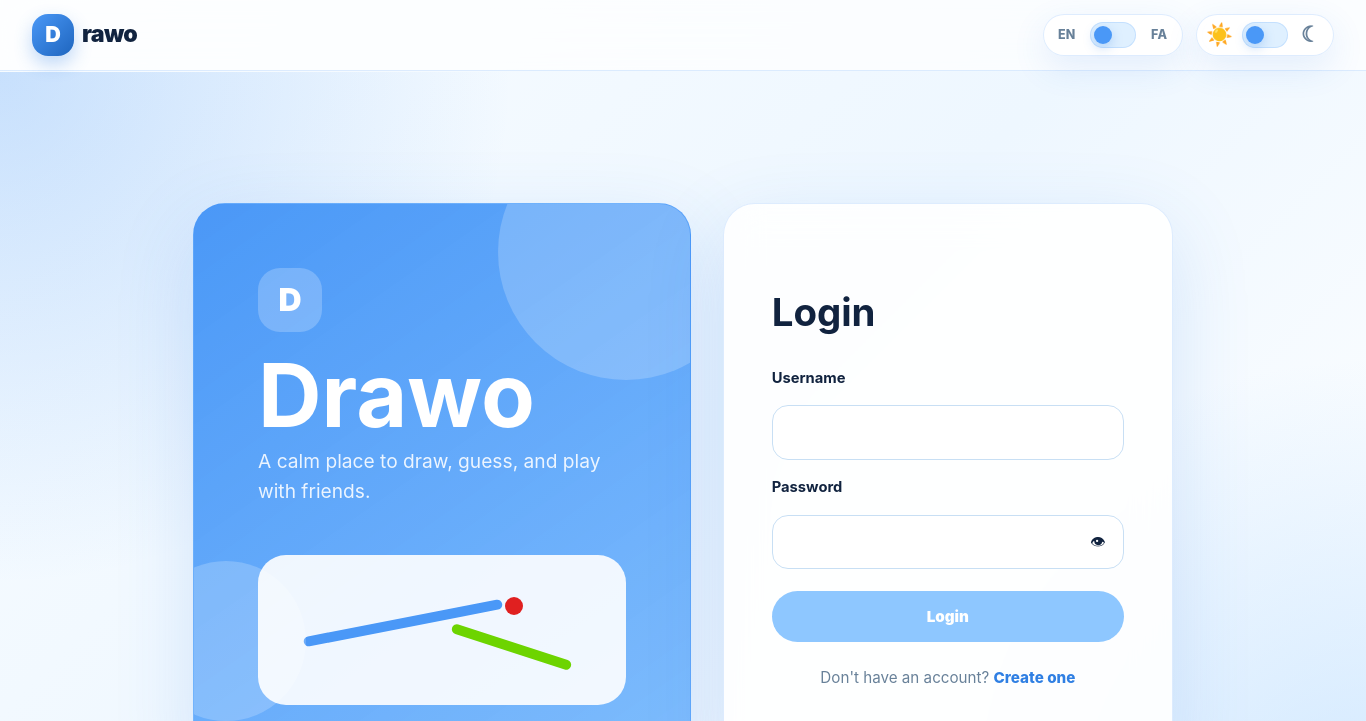
it: LoginPage › switches between login/register copy and validates confirm password locally
Expected: the button "Login" is shown, [772,591,1124,642]
Click the link "Create one" at (1034, 678), box [994,668,1075,687]
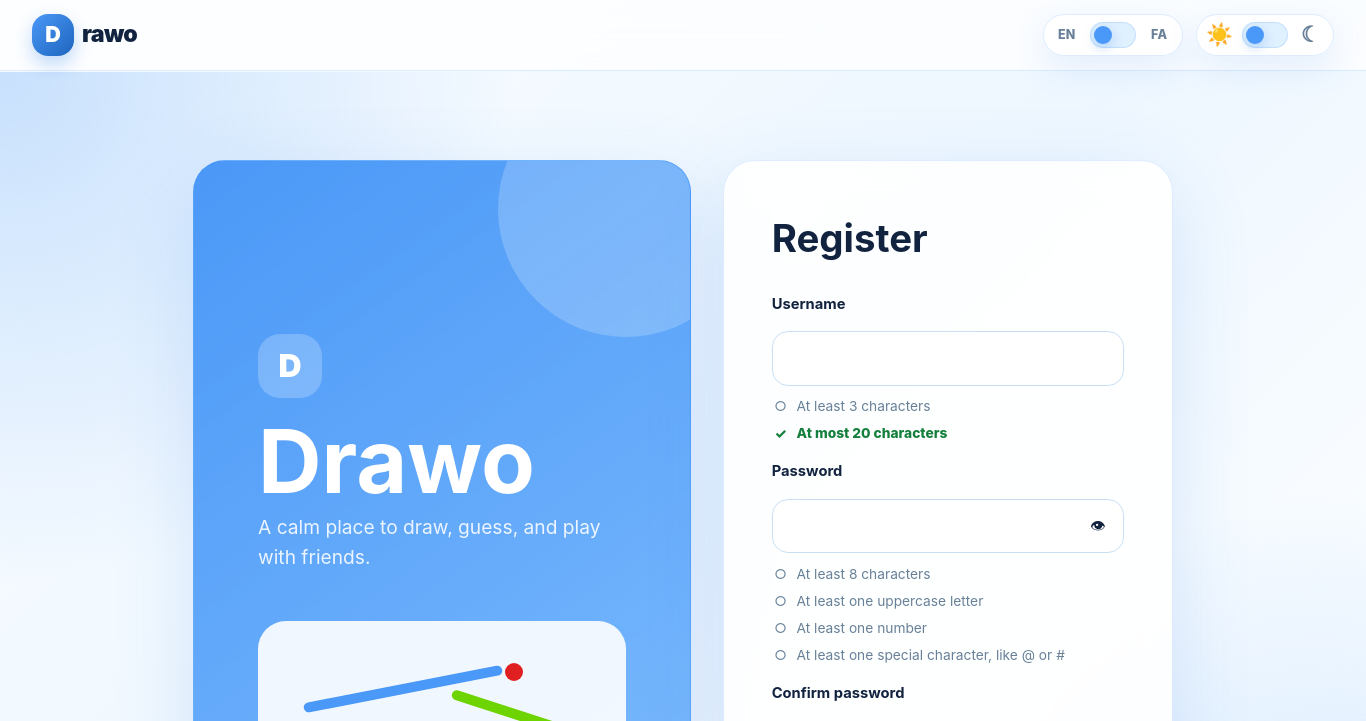
Type "hamid" into the field labelled "Username" at (948, 358), box [772,331,1124,386]
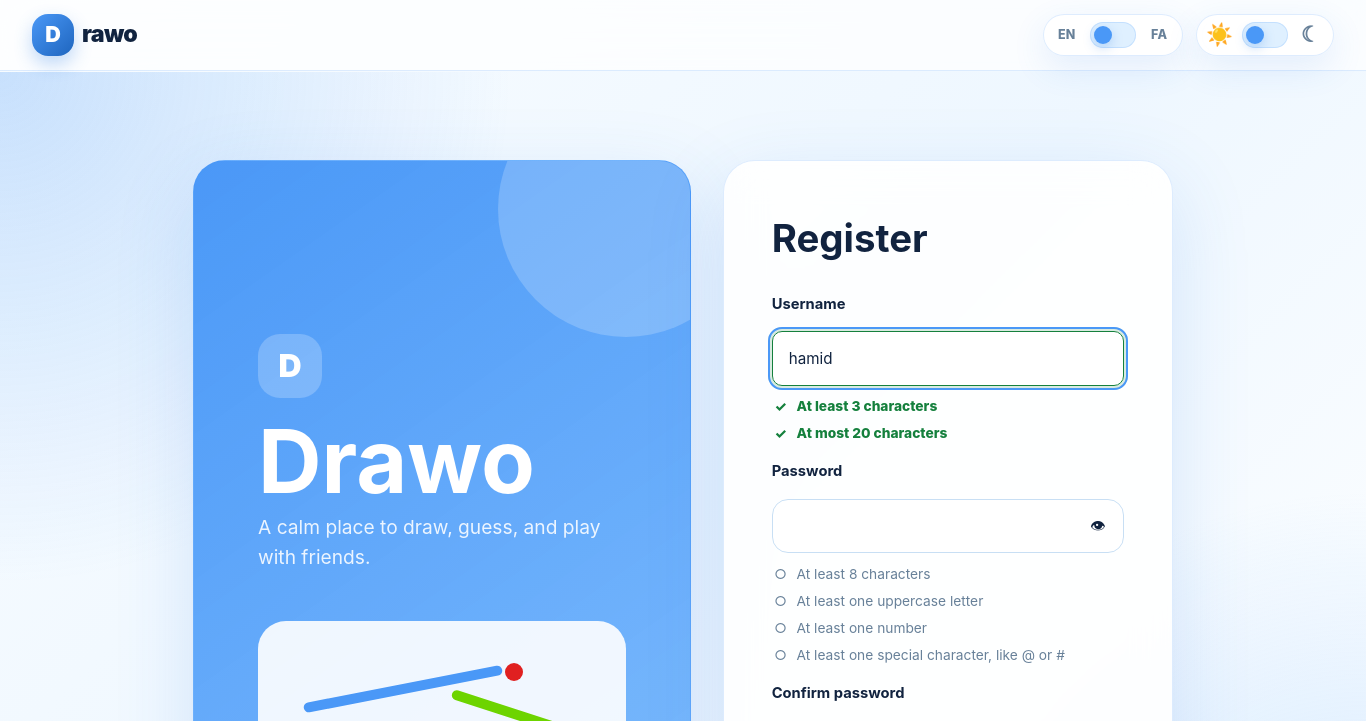
Type "Secret@1" into the password field labelled "Password" at (948, 526), box [772,499,1124,553]
(page scrolled)
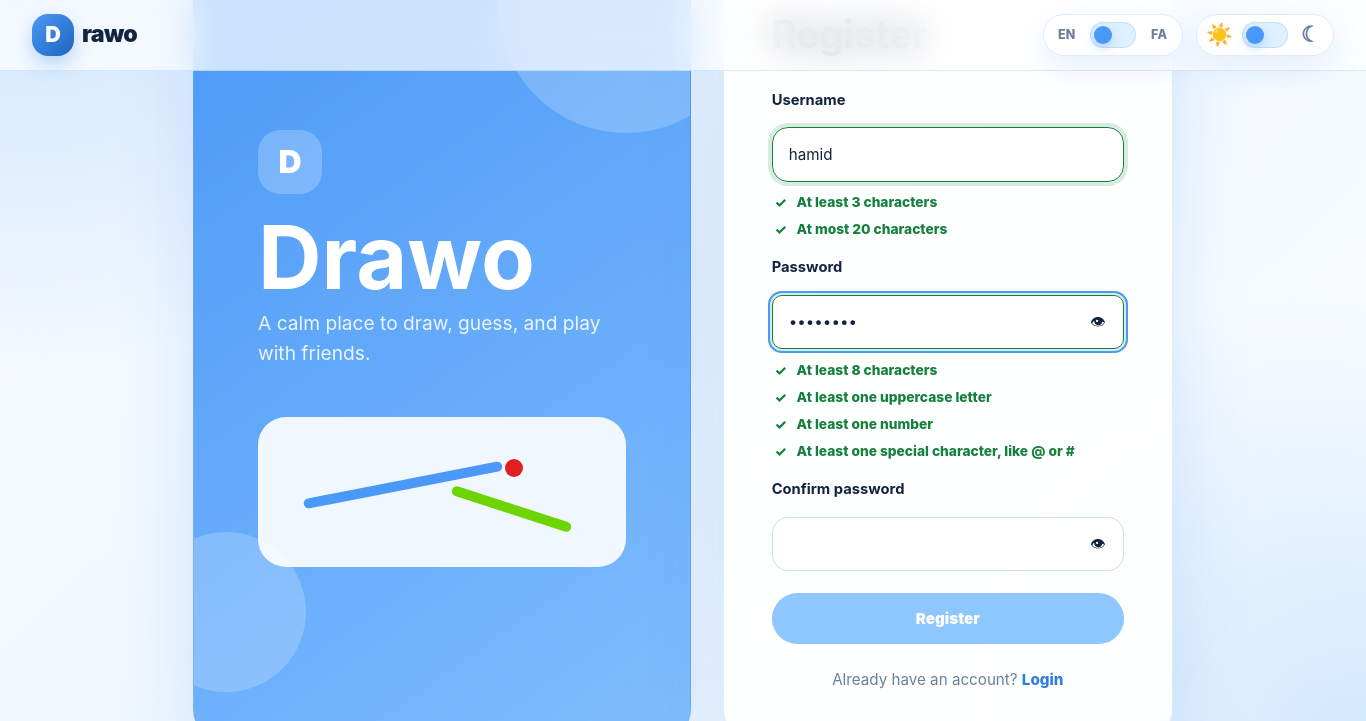
Type "Different@1" into the password field labelled "Confirm password" at (948, 544), box [772,517,1124,571]
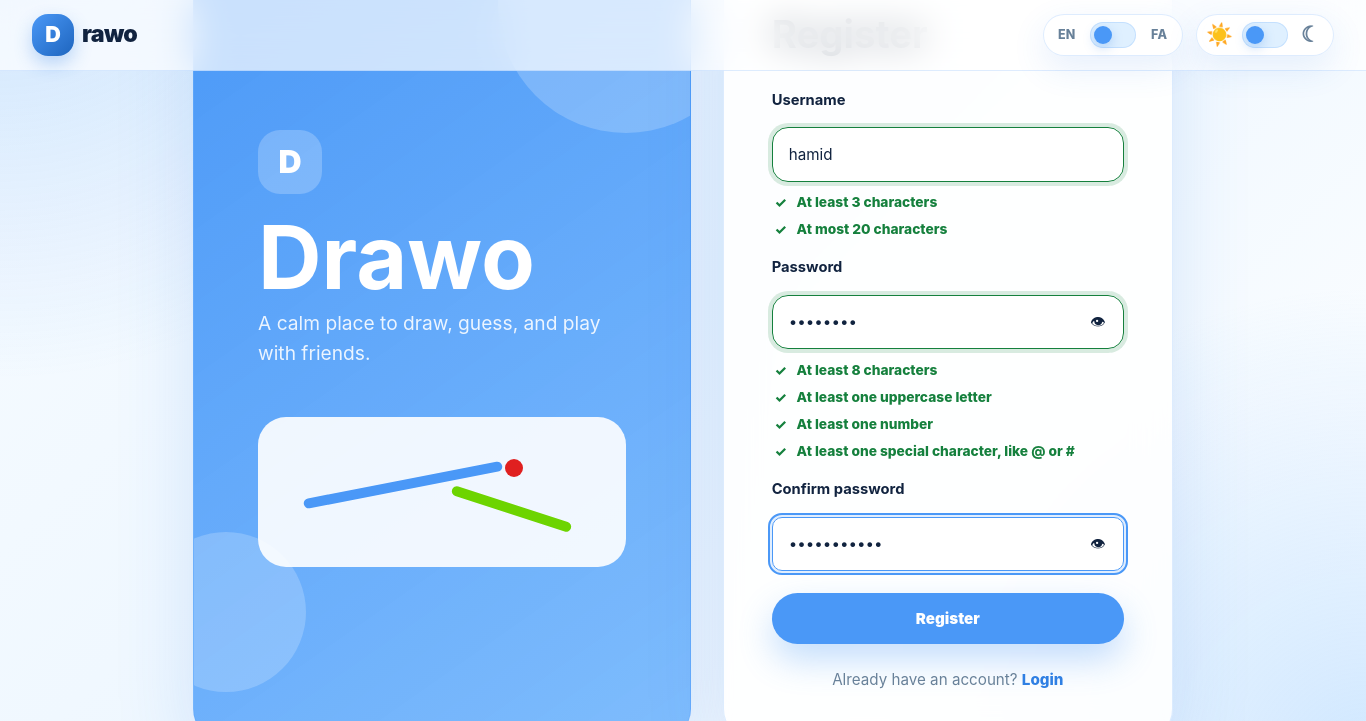
Click the button "Register" at (948, 619), box [772,593,1124,644]
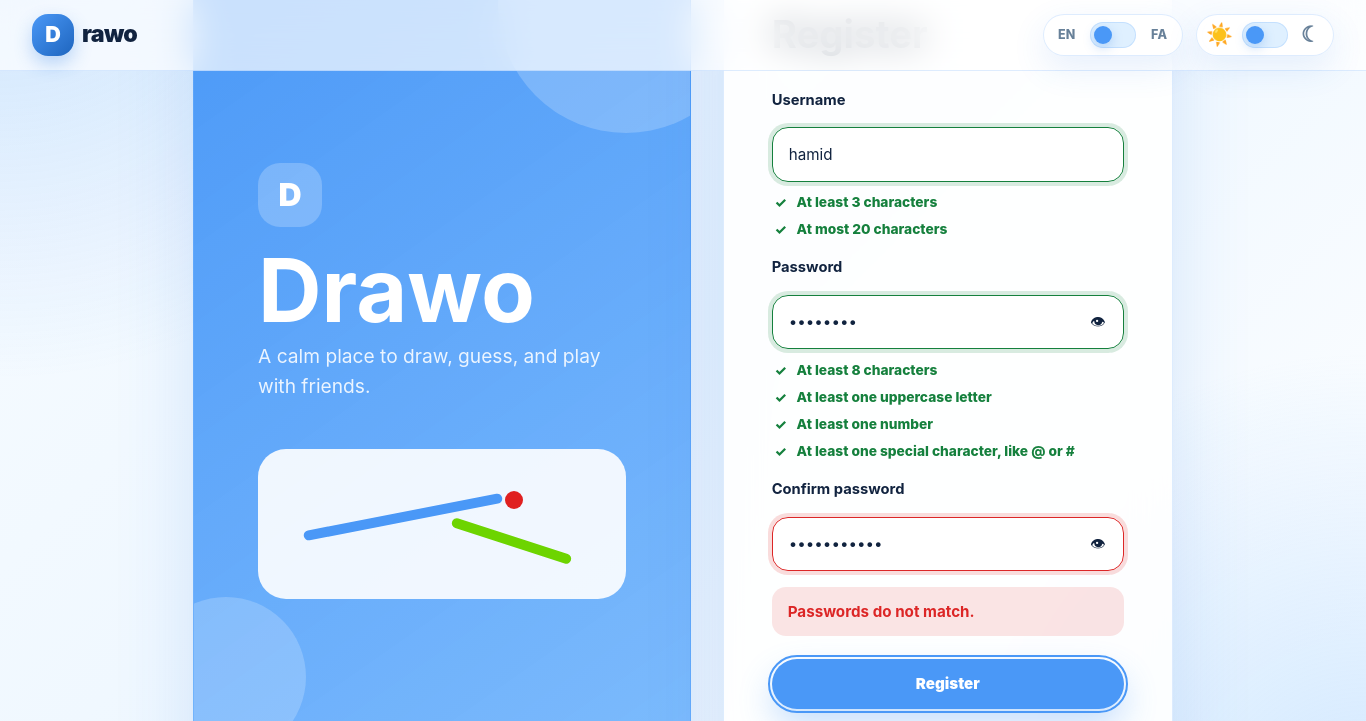
Expected: the message shows "Passwords do not match", [788,602,975,621]
